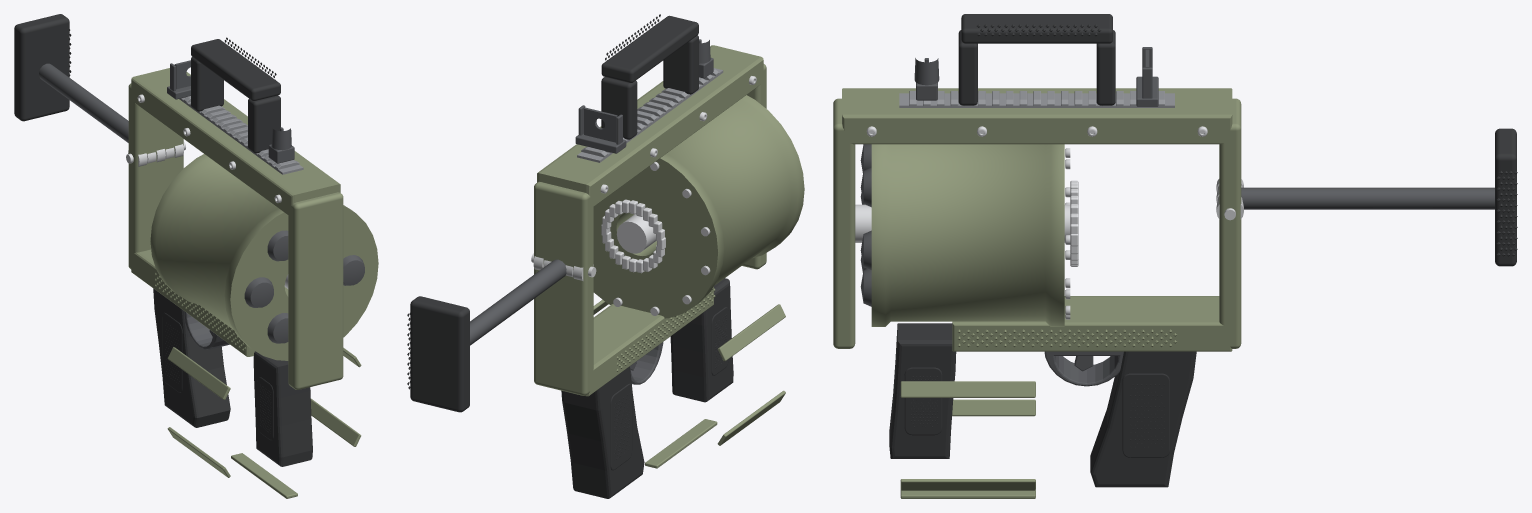
File: grenade.glb
3 renders of one model, left to right at view 1: azimuth 30°, elevation 25°; view 2: azimuth 150°, elevation 25°; view 3: azimuth 270°, elevation 25°, orthographic. The views are drawn at different scales.
Parts seen in each view (by area): view 1: revolving-grenade-launcher, cylinder/paintOlive, stock-fold/polymerBlack, cylinder/gunmetal, stock-fold/gunmetal; view 2: revolving-grenade-launcher, cylinder/paintOlive, stock-fold/polymerBlack, cylinder/steelBright, stock-fold/gunmetal; view 3: revolving-grenade-launcher, cylinder/paintOlive, stock-fold/gunmetal, stock-fold/polymerBlack, cylinder/steelBright, cylinder/gunmetal.
Part boxes in pixels (bbox=[...]): revolving-grenade-launcher: bbox=[126, 37, 343, 466]; cylinder/paintOlive: bbox=[150, 154, 378, 498]; stock-fold/polymerBlack: bbox=[14, 14, 71, 121]; cylinder/gunmetal: bbox=[244, 230, 364, 343]; stock-fold/gunmetal: bbox=[39, 63, 128, 142]; revolving-grenade-launcher: bbox=[531, 14, 766, 498]; cylinder/paintOlive: bbox=[593, 95, 804, 468]; stock-fold/polymerBlack: bbox=[407, 296, 469, 412]; cylinder/steelBright: bbox=[601, 161, 710, 315]; stock-fold/gunmetal: bbox=[470, 259, 566, 345]; revolving-grenade-launcher: bbox=[833, 14, 1243, 487]; cylinder/paintOlive: bbox=[871, 144, 1064, 498]; stock-fold/gunmetal: bbox=[1241, 187, 1494, 209]; stock-fold/polymerBlack: bbox=[1495, 128, 1517, 266]; cylinder/steelBright: bbox=[855, 148, 1078, 319]; cylinder/gunmetal: bbox=[860, 144, 871, 306].
Size of the model in its own units: 0.15 by 0.3847 by 0.4966.
